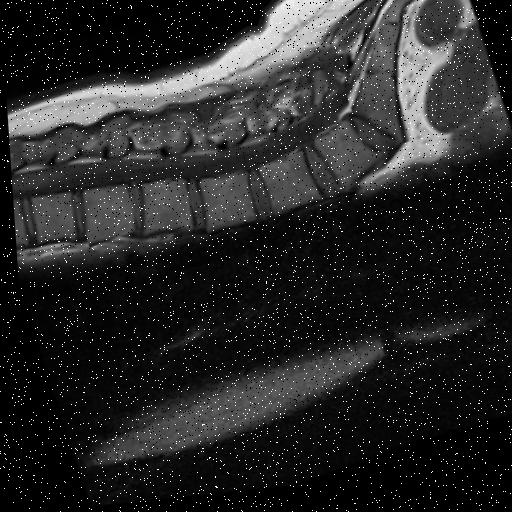L1: (81, 185, 129, 243)
L2: (139, 181, 188, 236)
L3: (198, 175, 253, 233)
L4: (256, 156, 317, 219)
L5: (311, 126, 381, 199)
S1: (351, 77, 402, 151)
